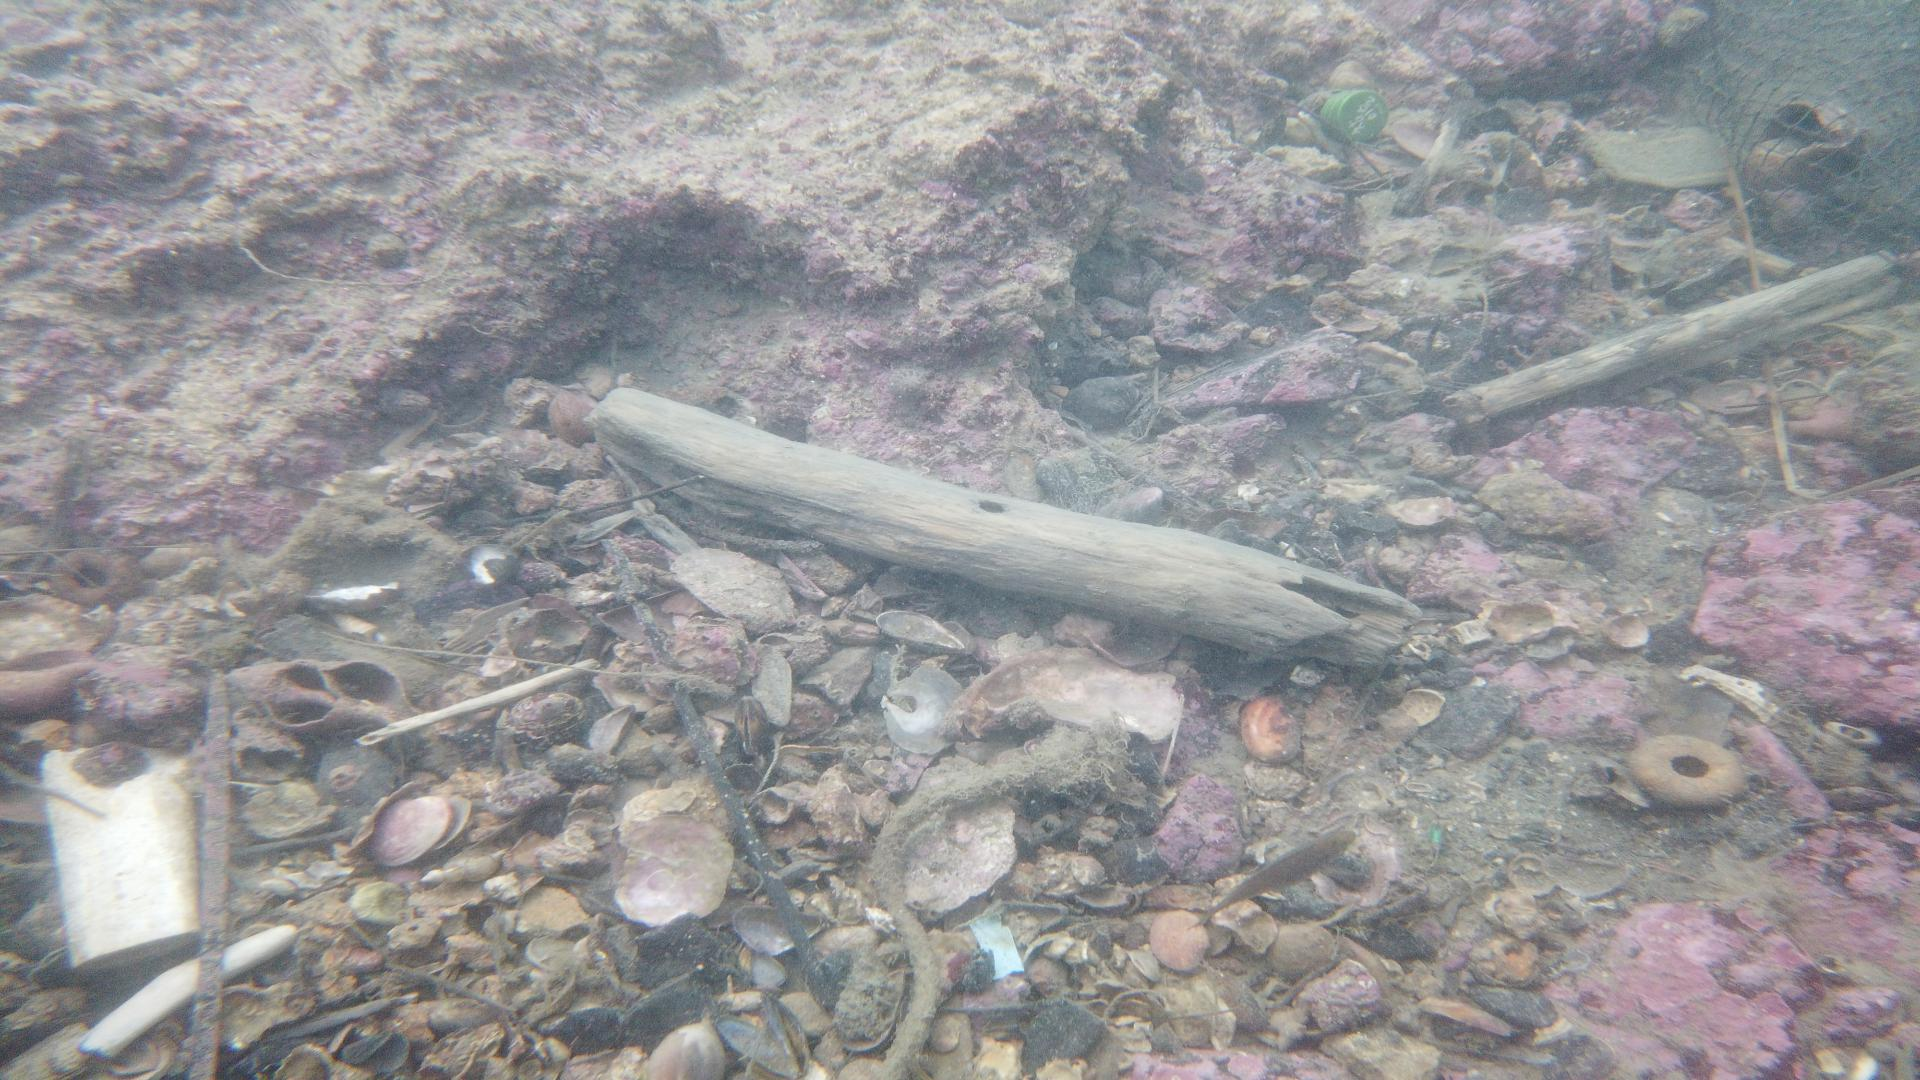fish net: (1688, 0, 1920, 266)
rope: (866, 742, 1063, 1080)
wood: (578, 385, 1423, 671), (1439, 251, 1894, 425)
